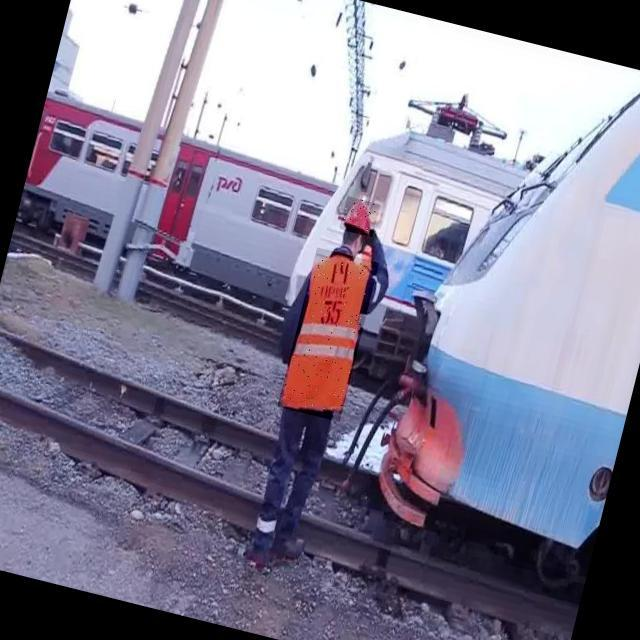Gloves: (360, 214, 384, 262)
Helmet: (339, 196, 380, 237)
Person: (227, 164, 402, 591)
Safety Boot: (238, 509, 311, 576)
Safety Vest: (277, 247, 379, 422)
